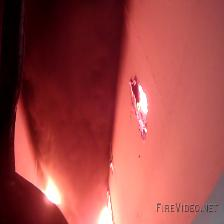fire: (38, 139, 129, 224)
